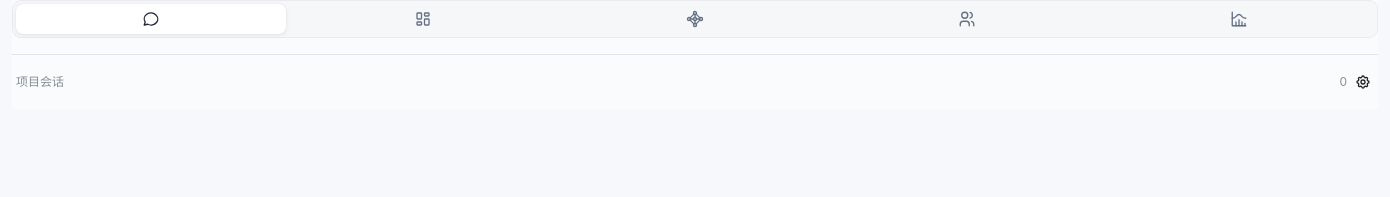
Test: Sidebar project catalog wiring › preloads today’s model usage and shows it when the statistics tab is hovered
Hover over the link named "统计" at [1239, 19], box 1230,10 -> 1248,28
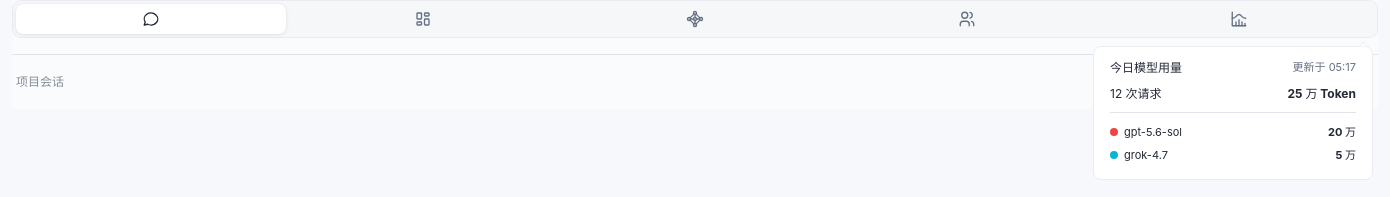
Expected: the text "今日模型用量" is shown, 1110,58 -> 1182,77
Expected: the text "12 次请求" is shown, 1110,85 -> 1162,104
Expected: the text "25 万 Token" is shown, 1288,85 -> 1356,104
